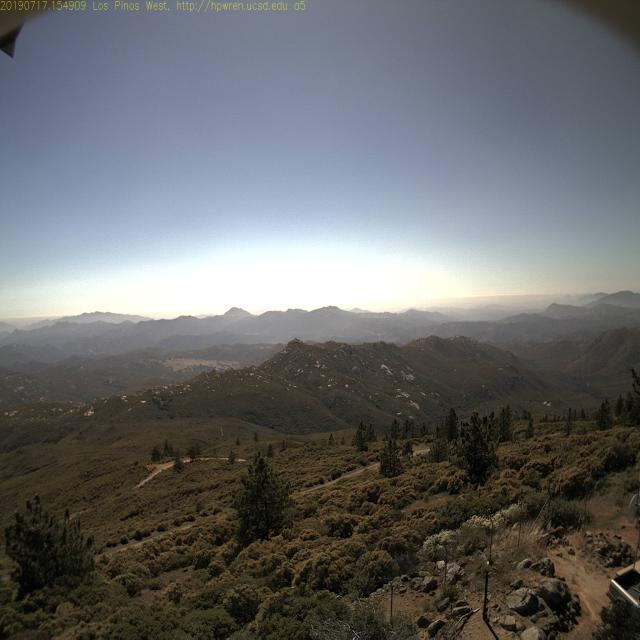smoke: (418, 295, 430, 316)
